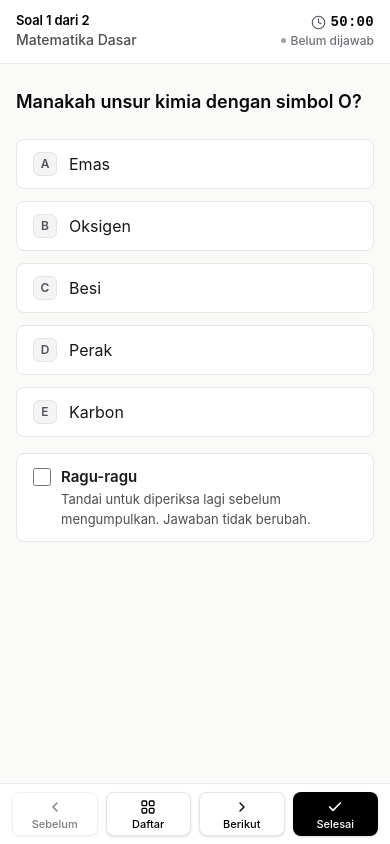
Test case: BU-081 StudentExamWorkstation Test Suite › 34. opening and closing QuestionNavigatorSheet makes zero network requests and introduces no auth headers
Expected: the text "Manakah unsur kimia dengan simbol O?" is shown, [16,88,362,114]
# Open sheet
Click the button with aria-label "Daftar Soal".
click(148, 814)  # box [106,792,191,836]
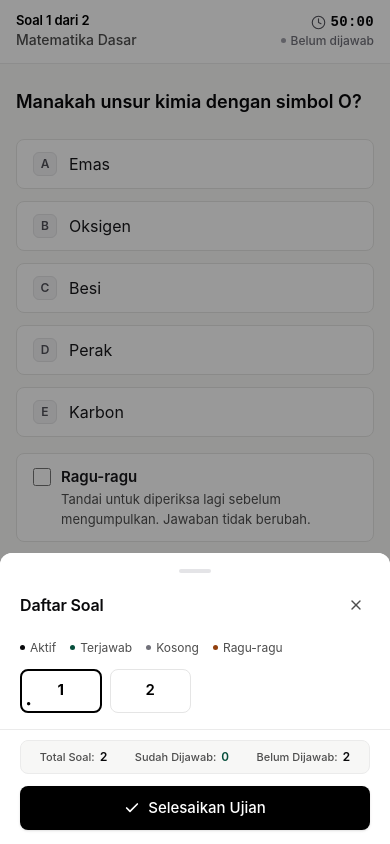
Expected: the dialog "Daftar Soal" is shown, [0,552,389,843]
# Close sheet via close button
Click the button named "Tutup daftar soal".
click(356, 604)  # box [334,582,378,626]
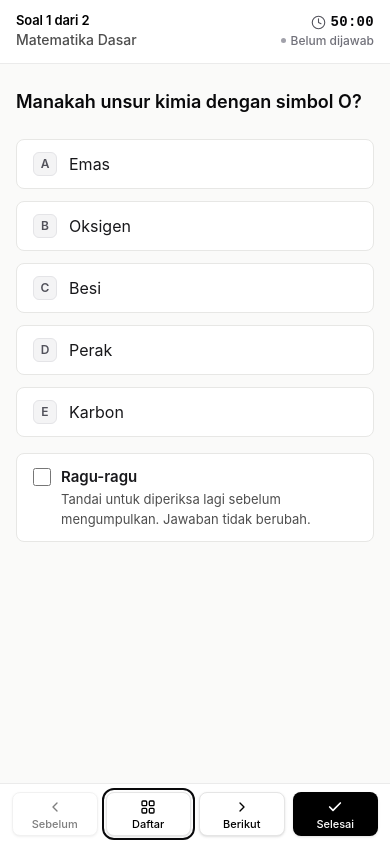
Expected: the heading "Daftar Soal" is gone
# Open sheet again
Click the button with aria-label "Daftar Soal".
click(148, 814)  # box [106,792,191,836]
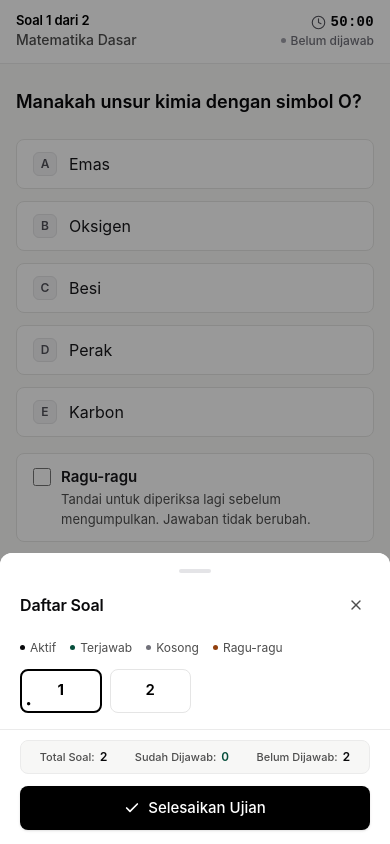
Expected: the dialog "Daftar Soal" is shown, [0,552,389,843]
# Close via Escape
Press Escape
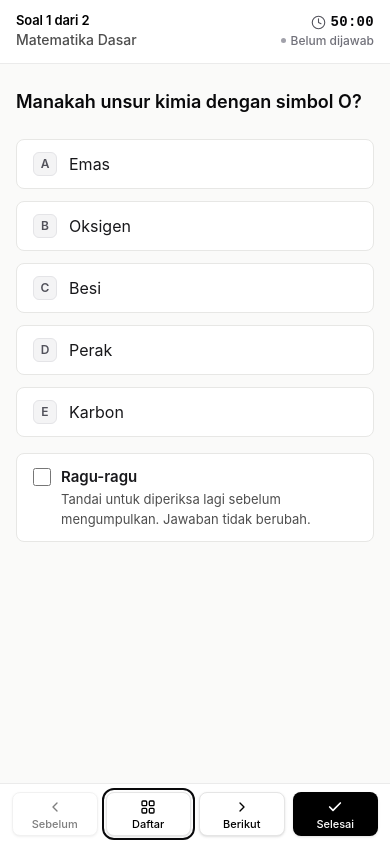
Expected: the heading "Daftar Soal" is gone
